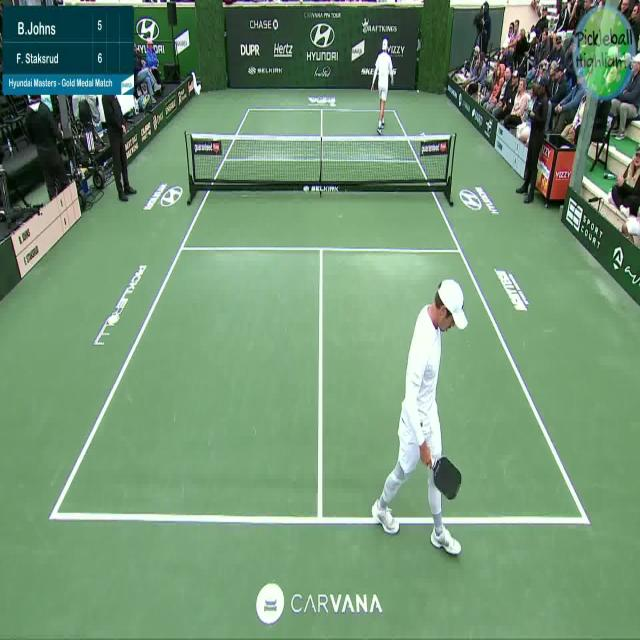ball: (415, 86, 422, 101)
